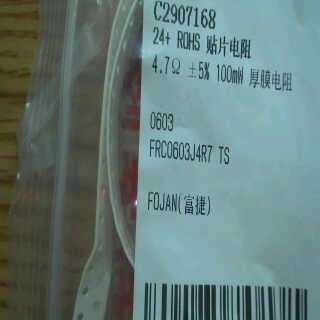4.7R: (148, 53, 187, 77)
